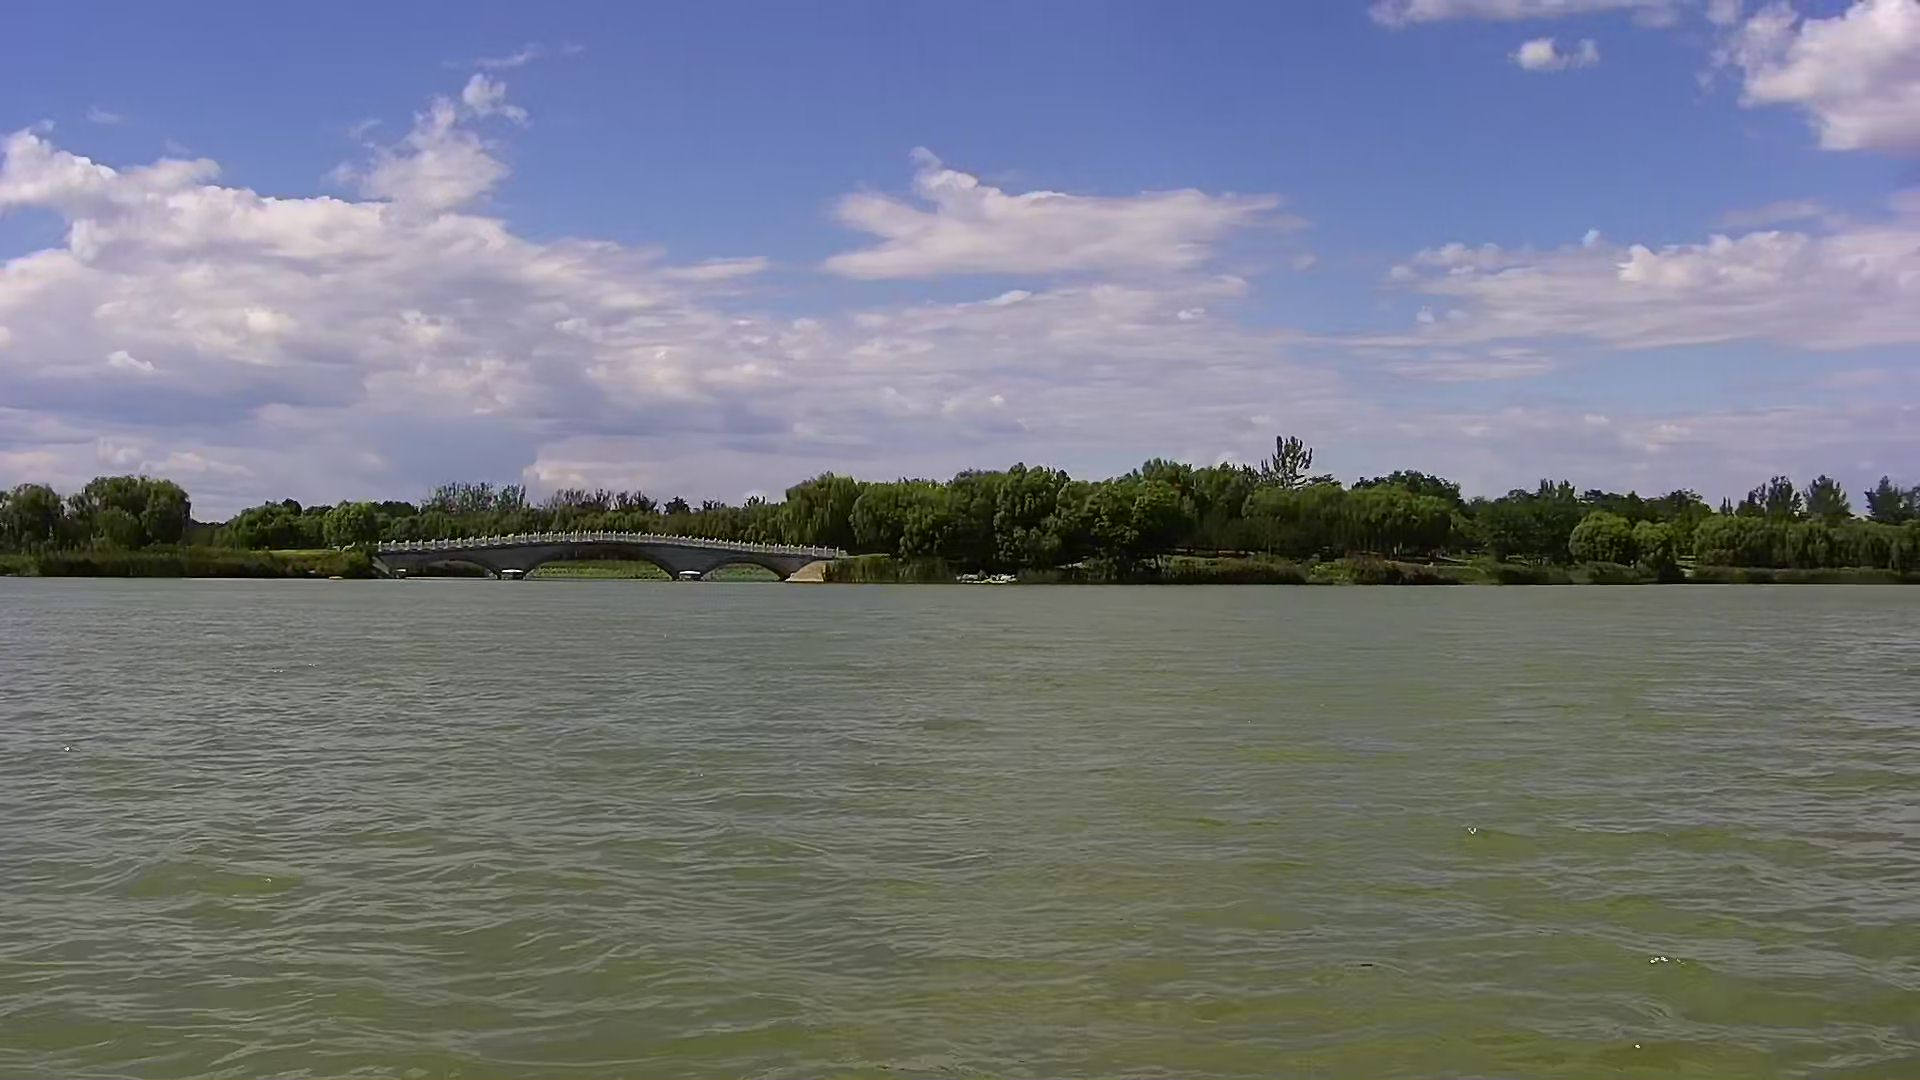bridge: (367, 524, 844, 584)
